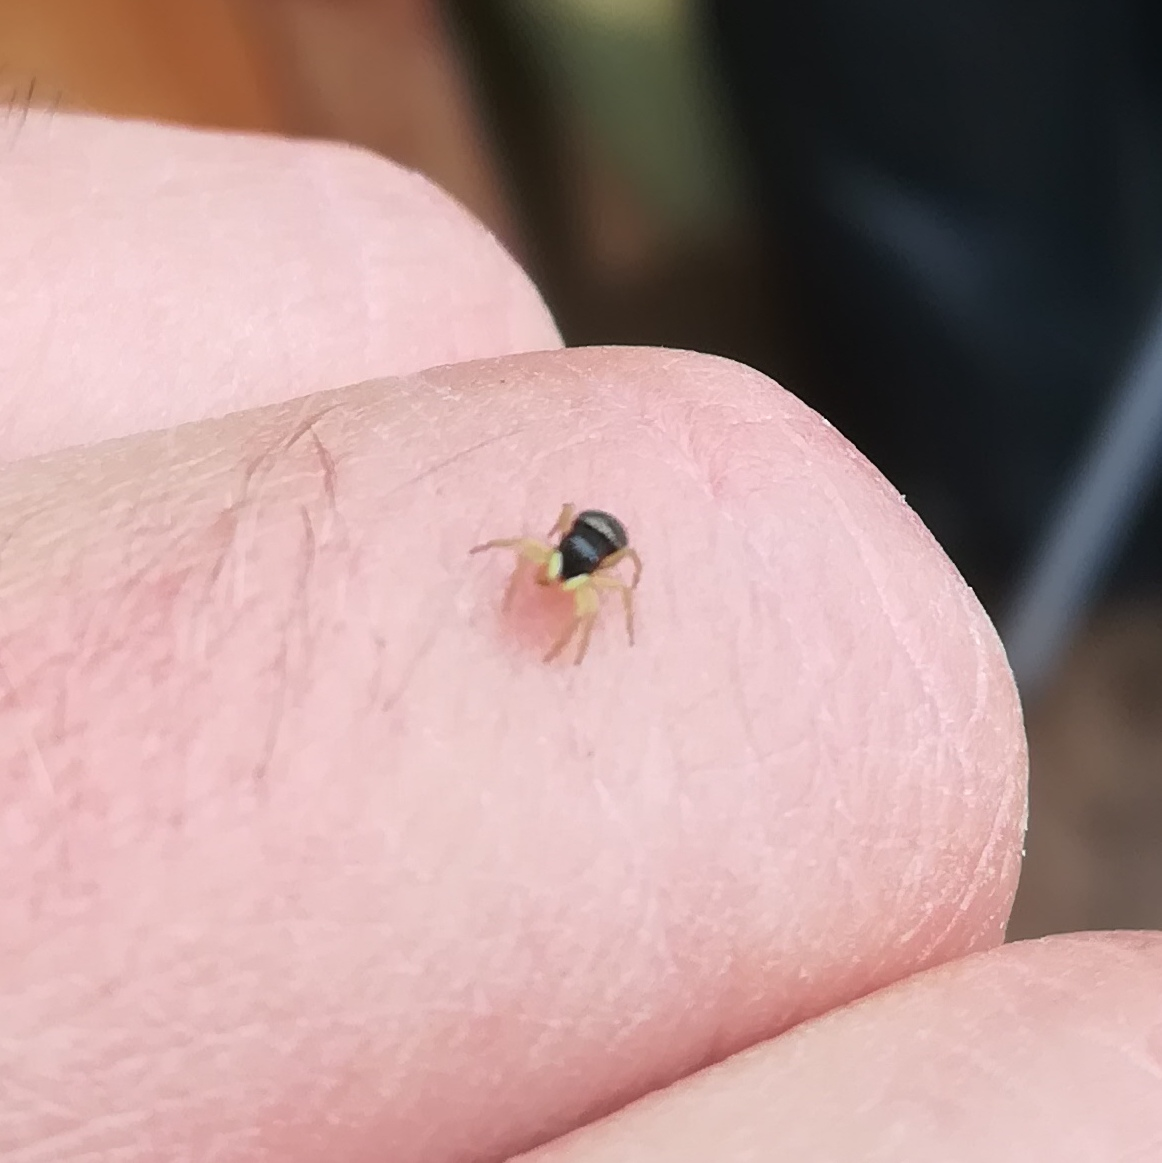spider: (426, 479, 686, 678)
